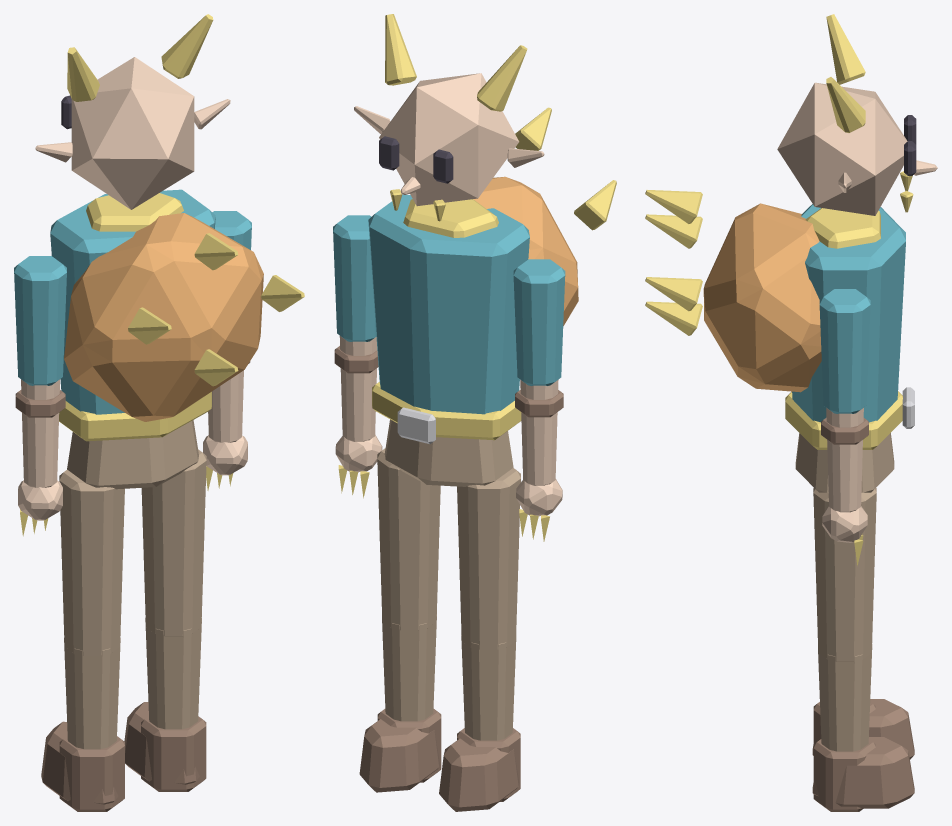
The model's file is cascudo.fbx.
The picture shows the model from 3 angles, left to right: view 1: azimuth 30°, elevation 25°; view 2: azimuth 150°, elevation 25°; view 3: azimuth 270°, elevation 25°; orthographic projection. The views are drawn at different scales.
Parts seen in each view (by area): view 1: Tronco~Casco@hair, Cabeça~Rosto@skin, Perna E~Coxa@pants, Perna D~Coxa@pants, Braço E~Manga@tunic, Quadril~Pelve@pants, Tronco~Peito@tunic, Perna D~Canela@pants, Perna E~Canela@pants, Perna D~Cano da bota@boots, Perna E~Cano da bota@boots, Tronco~Cinto@accent (+15 smaller); view 2: Tronco~Peito@tunic, Cabeça~Rosto@skin, Perna E~Coxa@pants, Perna D~Coxa@pants, Braço E~Manga@tunic, Quadril~Pelve@pants, Perna E~Canela@pants, Perna D~Canela@pants, Braço D~Manga@tunic, Tronco~Casco@hair, Perna D~Bota@boots, Perna E~Bota@boots (+17 smaller); view 3: Tronco~Casco@hair, Cabeça~Rosto@skin, Tronco~Peito@tunic, Perna D~Coxa@pants, Braço D~Manga@tunic, Perna D~Canela@pants, Perna D~Bota@boots, Braço D~Antebraço@skin, Quadril~Pelve@pants, Tronco~Gola@accent, Perna D~Cano da bota@boots, Tronco~Cinto@accent (+9 smaller).
Boxes of the visible parts, x1=… form: Tronco~Casco@hair: x1=64, y1=213, x2=263, y2=421; Cabeça~Rosto@skin: x1=71, y1=57, x2=194, y2=209; Perna E~Coxa@pants: x1=59, y1=469, x2=124, y2=655; Perna D~Coxa@pants: x1=141, y1=449, x2=206, y2=636; Braço E~Manga@tunic: x1=14, y1=256, x2=66, y2=385; Quadril~Pelve@pants: x1=67, y1=420, x2=198, y2=489; Tronco~Peito@tunic: x1=50, y1=189, x2=215, y2=414; Perna D~Canela@pants: x1=145, y1=618, x2=201, y2=729; Perna E~Canela@pants: x1=64, y1=638, x2=120, y2=749; Perna D~Cano da bota@boots: x1=141, y1=716, x2=206, y2=791; Perna E~Cano da bota@boots: x1=59, y1=736, x2=124, y2=811; Tronco~Cinto@accent: x1=59, y1=391, x2=211, y2=441; Tronco~Peito@tunic: x1=368, y1=194, x2=529, y2=414; Cabeça~Rosto@skin: x1=379, y1=73, x2=519, y2=206; Perna E~Coxa@pants: x1=457, y1=468, x2=520, y2=649; Perna D~Coxa@pants: x1=377, y1=448, x2=440, y2=630; Braço E~Manga@tunic: x1=513, y1=259, x2=565, y2=385; Quadril~Pelve@pants: x1=384, y1=419, x2=513, y2=486; Perna E~Canela@pants: x1=461, y1=634, x2=516, y2=740; Perna D~Canela@pants: x1=382, y1=614, x2=436, y2=721; Braço D~Manga@tunic: x1=333, y1=215, x2=376, y2=341; Tronco~Casco@hair: x1=473, y1=176, x2=578, y2=325; Perna D~Bota@boots: x1=359, y1=719, x2=439, y2=792; Perna E~Bota@boots: x1=439, y1=738, x2=519, y2=811; Tronco~Casco@hair: x1=703, y1=203, x2=821, y2=392; Cabeça~Rosto@skin: x1=777, y1=82, x2=907, y2=215; Tronco~Peito@tunic: x1=792, y1=204, x2=905, y2=422; Perna D~Coxa@pants: x1=813, y1=488, x2=876, y2=661; Braço D~Manga@tunic: x1=819, y1=289, x2=870, y2=413; Perna D~Canela@pants: x1=818, y1=644, x2=872, y2=751; Perna D~Bota@boots: x1=812, y1=737, x2=914, y2=808; Braço D~Antebraço@skin: x1=826, y1=408, x2=863, y2=512; Quadril~Pelve@pants: x1=795, y1=433, x2=894, y2=492; Tronco~Gola@accent: x1=805, y1=208, x2=880, y2=248; Perna D~Cano da bota@boots: x1=813, y1=739, x2=875, y2=811; Tronco~Cinto@accent: x1=785, y1=391, x2=902, y2=449.
Bounding box in the file's own units: 0.6203 × 1.98 × 0.7107.
